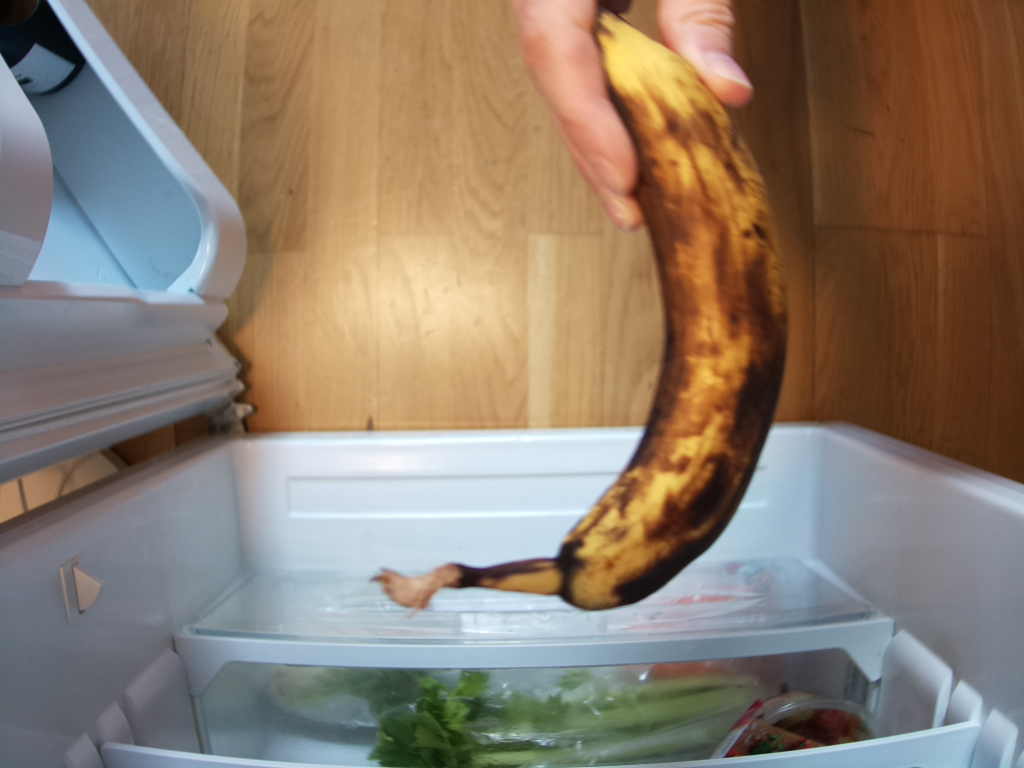banana-overripe: (375, 5, 791, 614)
